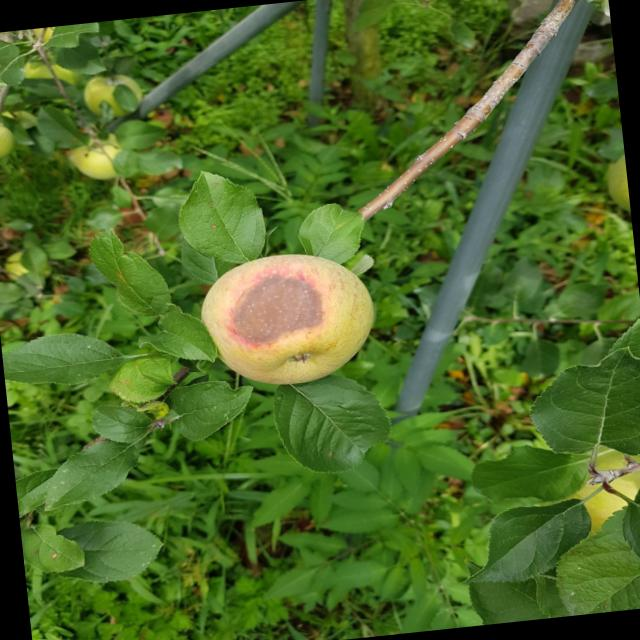rotten: (186, 236, 391, 406)
